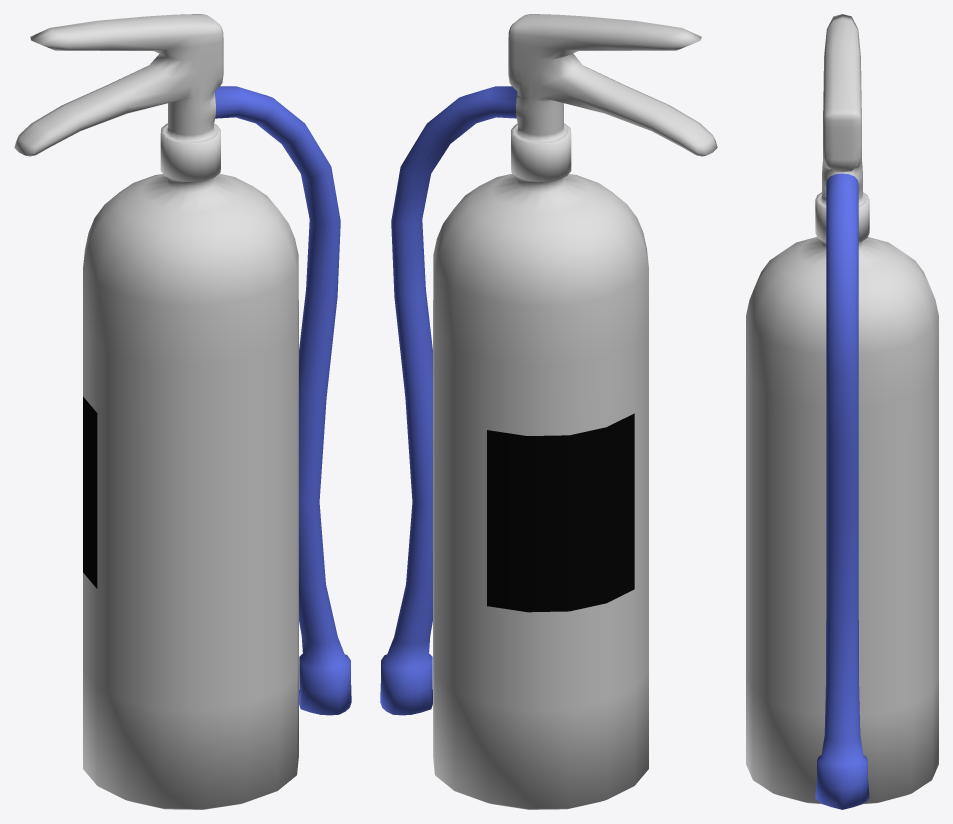
Rendered from model_fireExtinguisher.fbx.
The picture shows the model from 3 angles, left to right: view 1: azimuth 30°, elevation 25°; view 2: azimuth 150°, elevation 25°; view 3: azimuth 270°, elevation 25°; orthographic projection. The views are drawn at different scales.
Visible parts, largest first — view 1: Plane.031; view 2: Plane.031; view 3: Plane.031.
Boxes of the visible parts, x1,y1,x2,y2 form: Plane.031: (14, 14, 351, 809); Plane.031: (380, 14, 717, 809); Plane.031: (746, 14, 938, 809).
Size of the model in its own units: 58.57 by 131 by 32.89.
